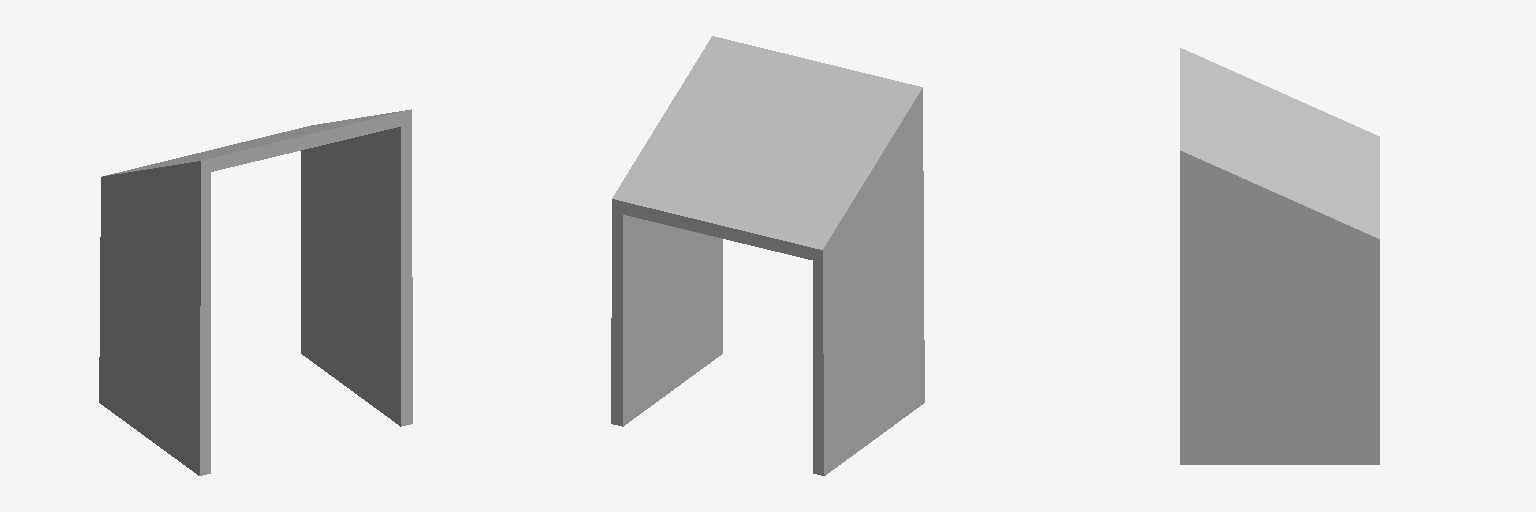
File: TinyHall.obj
3 renders of one model, left to right at view 1: azimuth 30°, elevation 25°; view 2: azimuth 150°, elevation 25°; view 3: azimuth 270°, elevation 25°, orthographic.
Visible parts, largest first — view 1: TinyHall; view 2: TinyHall; view 3: TinyHall.
Boxes of the visible parts, x1=… form: TinyHall: x1=99, y1=109, x2=412, y2=475; TinyHall: x1=611, y1=36, x2=924, y2=475; TinyHall: x1=1180, y1=48, x2=1379, y2=464.
Size of the model in its own units: 528 by 745 by 430.